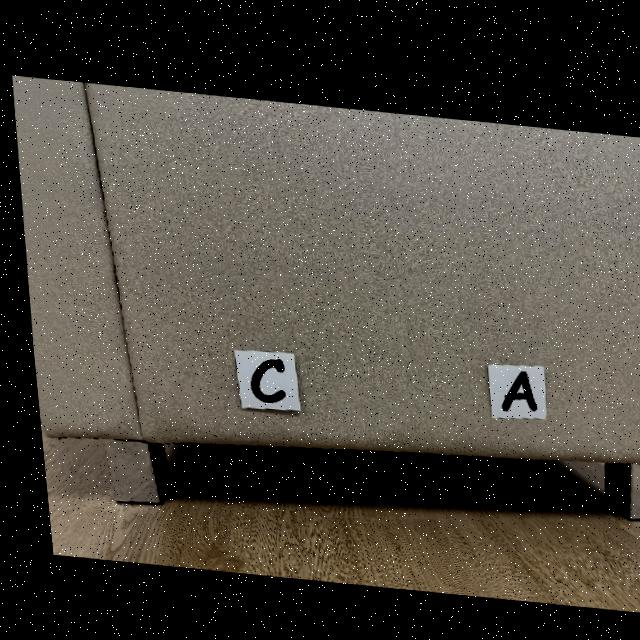A: (494, 363, 529, 403)
C: (243, 354, 278, 399)
